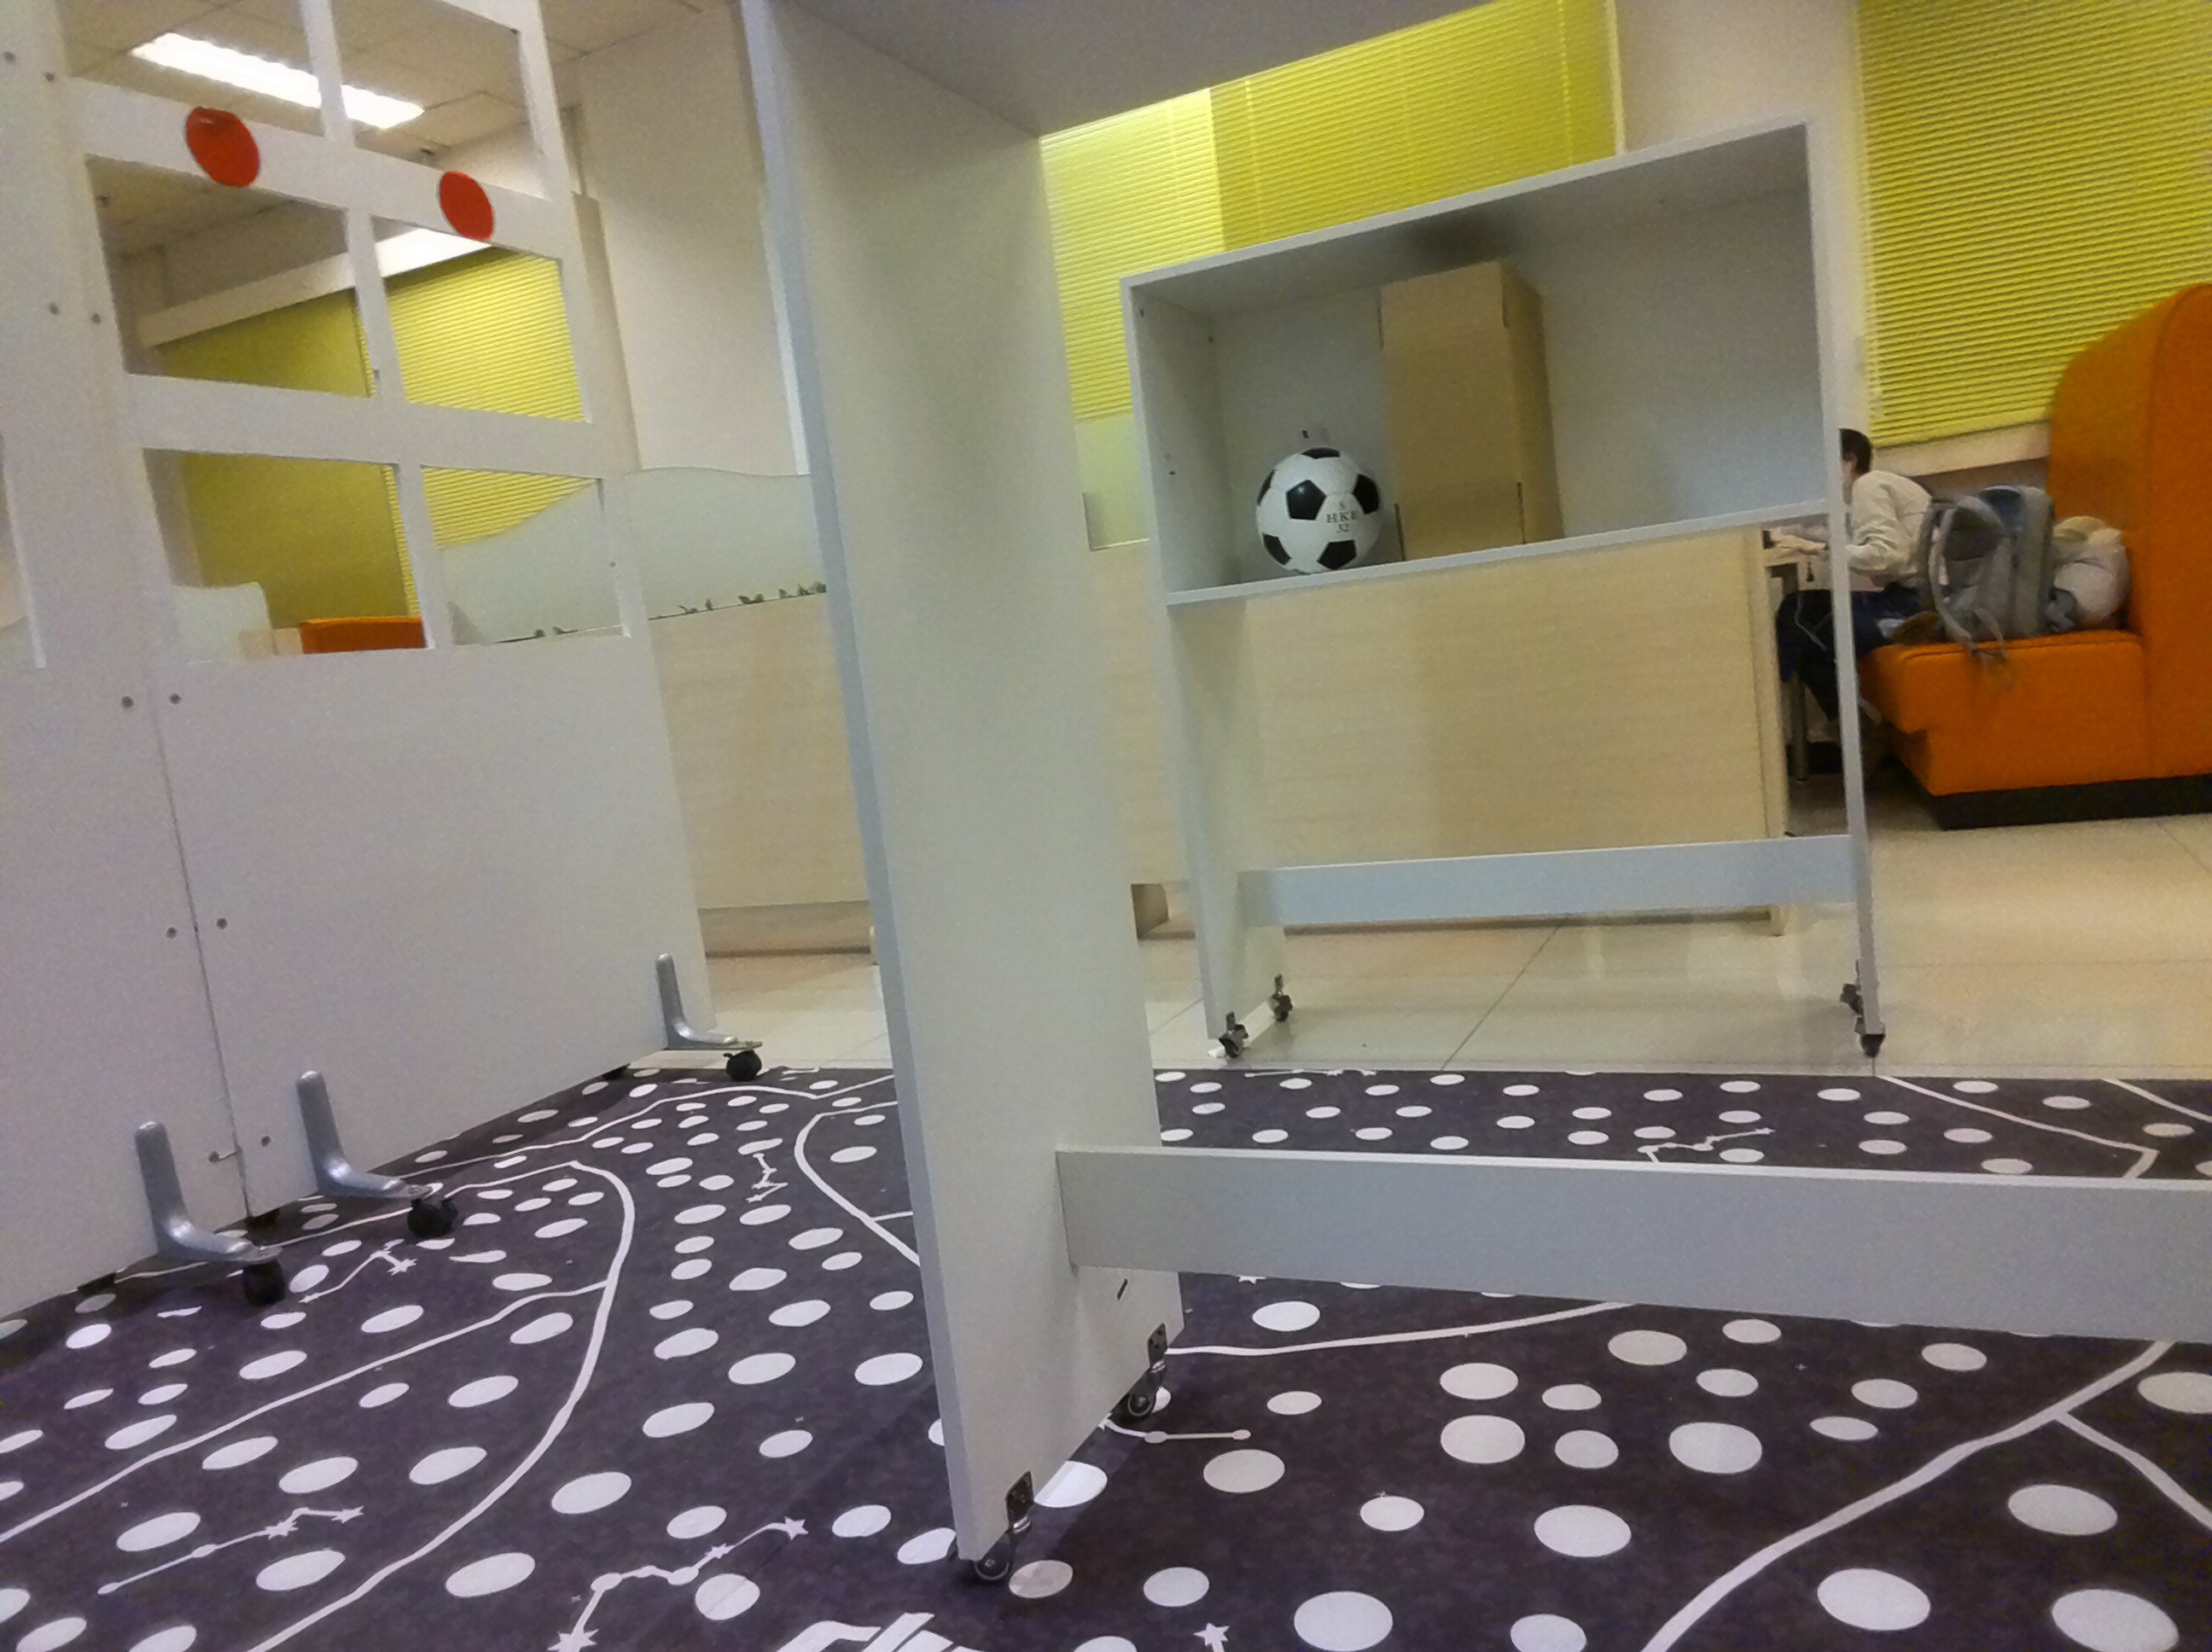football: (1235, 432, 1393, 587)
